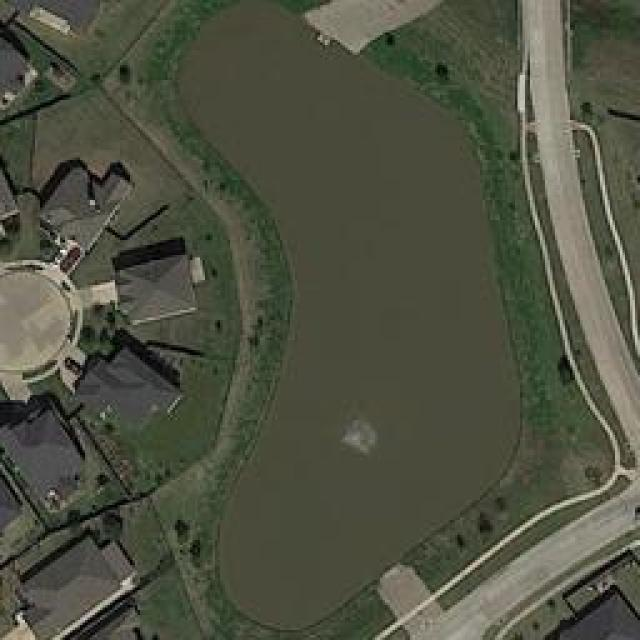Lake: (123, 2, 553, 640)
